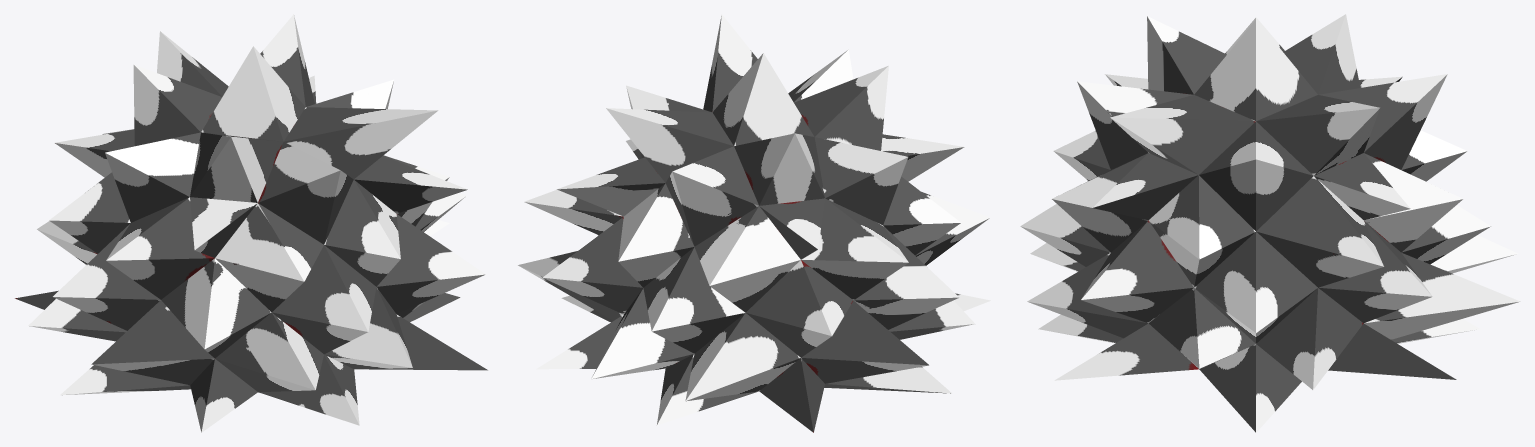
Rendered from enemydanger.obj.
3 views of the same model, side by side, from view 1: azimuth 30°, elevation 25°; view 2: azimuth 150°, elevation 25°; view 3: azimuth 270°, elevation 25° (orthographic). The views are drawn at different scales.
Visible parts, largest first — view 1: 立方体; view 2: 立方体; view 3: 立方体.
Part boxes in pixels (x1=…): 立方体: x1=15, y1=14, x2=487, y2=432; 立方体: x1=518, y1=14, x2=990, y2=432; 立方体: x1=1020, y1=14, x2=1520, y2=432.
Bounding box in the file's own units: 6.79 × 5.04 × 6.75.
1 material, 1 textured.
